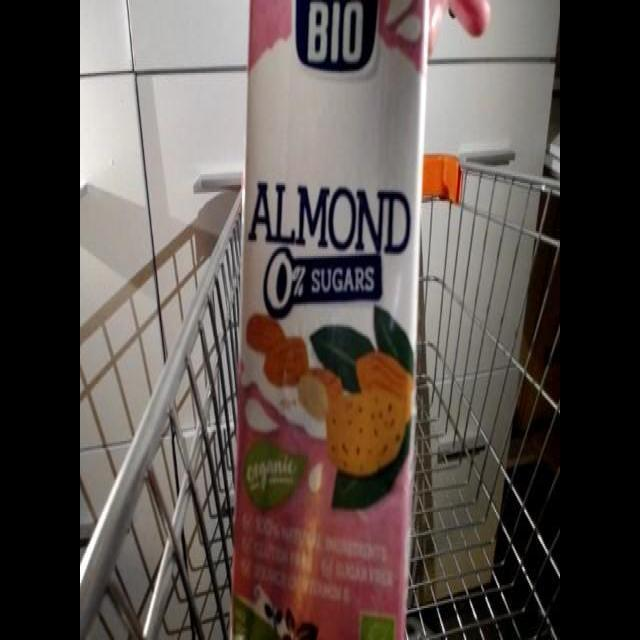Almond Milk: (224, 1, 436, 639)
